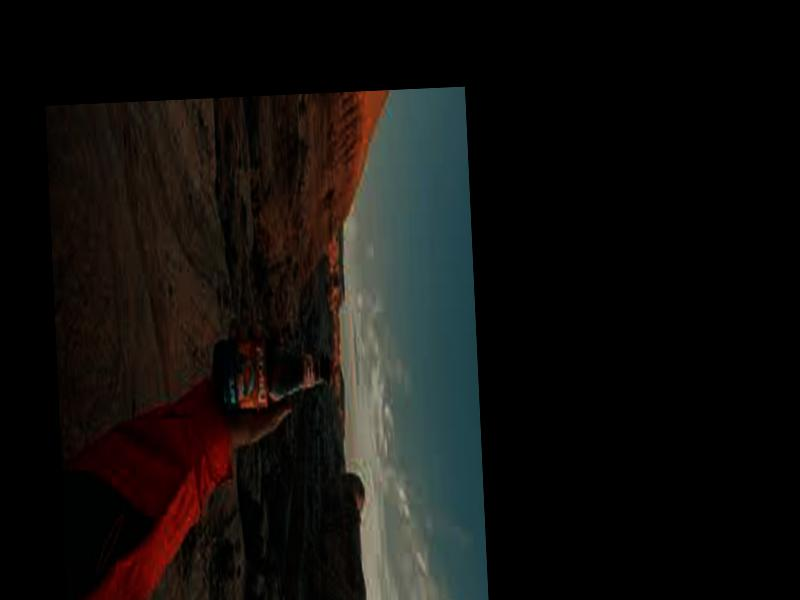Beer: (213, 331, 332, 418)
